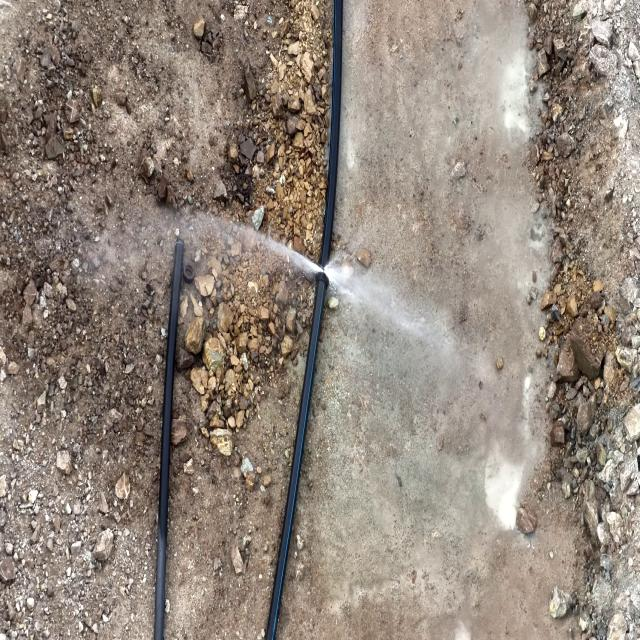leak: (192, 211, 430, 344)
